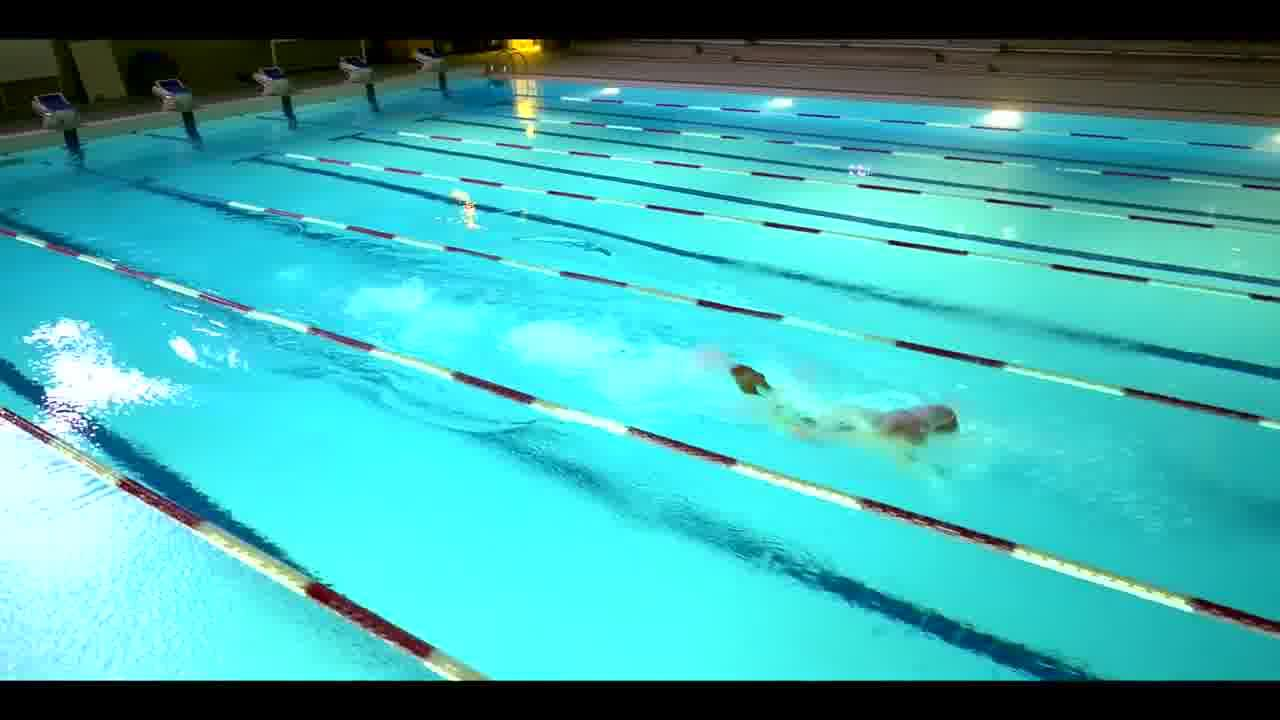human: (720, 358, 1008, 470)
